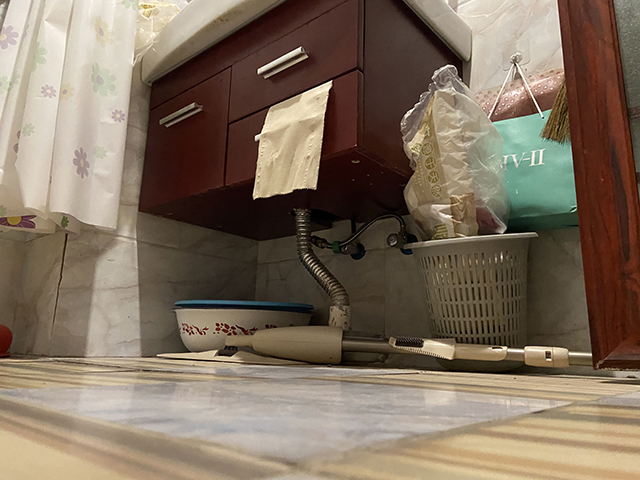trashcan: (400, 230, 541, 374)
